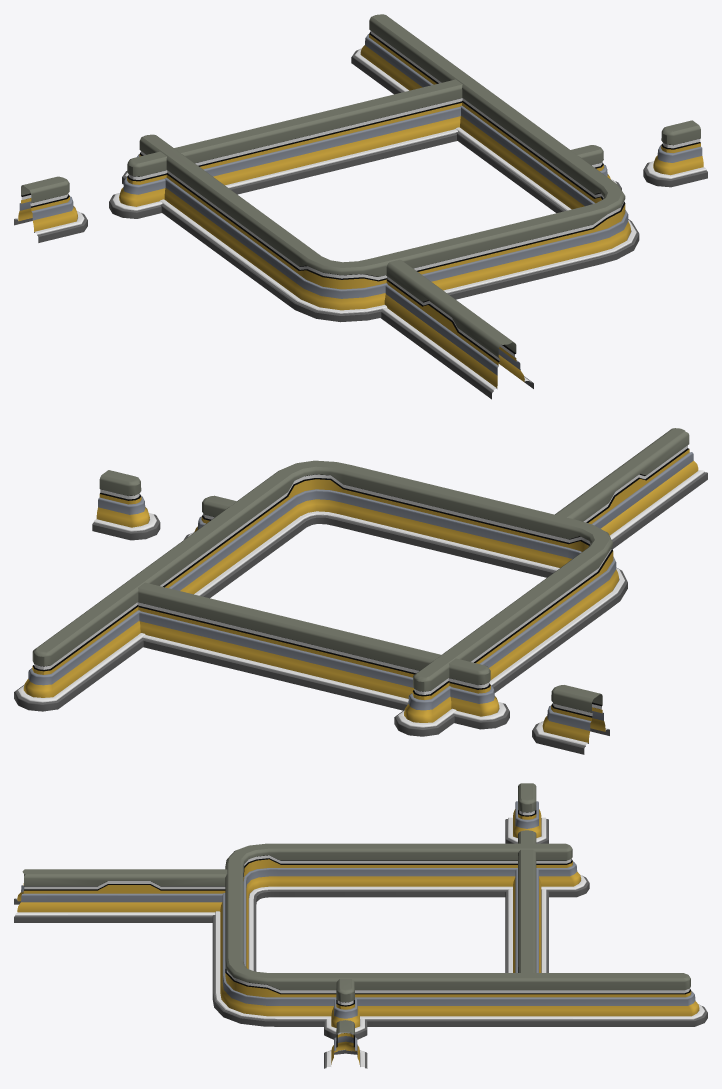
The model's file is Level18_Small_walls.fbx.
The picture shows the model from 3 angles, top to bottom: view 1: azimuth 30°, elevation 25°; view 2: azimuth 150°, elevation 25°; view 3: azimuth 270°, elevation 25°; orthographic projection. The views are drawn at different scales.
Visible parts, largest first — view 1: Small_wall_L6, Small_wall_L23, Small_wallv1_4, Small_wall_L22, Small_wall_L7, Small_wall_L21; view 2: Small_wall_L6, Small_wall_L23, Small_wallv1_4, Small_wall_L22, Small_wall_L7, Small_wall_L21; view 3: Small_wall_L6, Small_wallv1_4, Small_wall_L23, Small_wall_L22, Small_wall_L21, Small_wall_L7.
Part boxes in pixels (left/top/right/bottom): Small_wall_L6: left=122, top=14, right=639, bottom=322; Small_wall_L23: left=109, top=79, right=462, bottom=218; Small_wallv1_4: left=381, top=259, right=533, bottom=399; Small_wall_L22: left=14, top=176, right=87, bottom=242; Small_wall_L7: left=643, top=120, right=707, bottom=187; Small_wall_L21: left=570, top=145, right=621, bottom=190; Small_wall_L6: left=14, top=460, right=627, bottom=736; Small_wall_L23: left=137, top=582, right=509, bottom=729; Small_wallv1_4: left=555, top=428, right=707, bottom=549; Small_wall_L22: left=532, top=685, right=609, bottom=754; Small_wall_L7: left=92, top=470, right=160, bottom=540; Small_wall_L21: left=184, top=495, right=236, bottom=539; Small_wall_L6: left=212, top=843, right=707, bottom=1026; Small_wallv1_4: left=14, top=869, right=227, bottom=922; Small_wall_L23: left=505, top=830, right=548, bottom=972; Small_wall_L22: left=505, top=783, right=548, bottom=843; Small_wall_L21: left=324, top=979, right=367, bottom=1039; Small_wall_L7: left=324, top=1020, right=367, bottom=1068.
Bounding box in the file's own units: 466 × 37.5 × 548.
